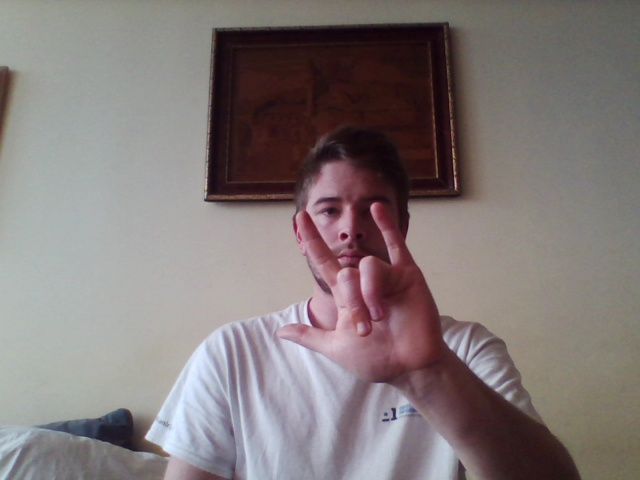volimte: (261, 201, 450, 371)
